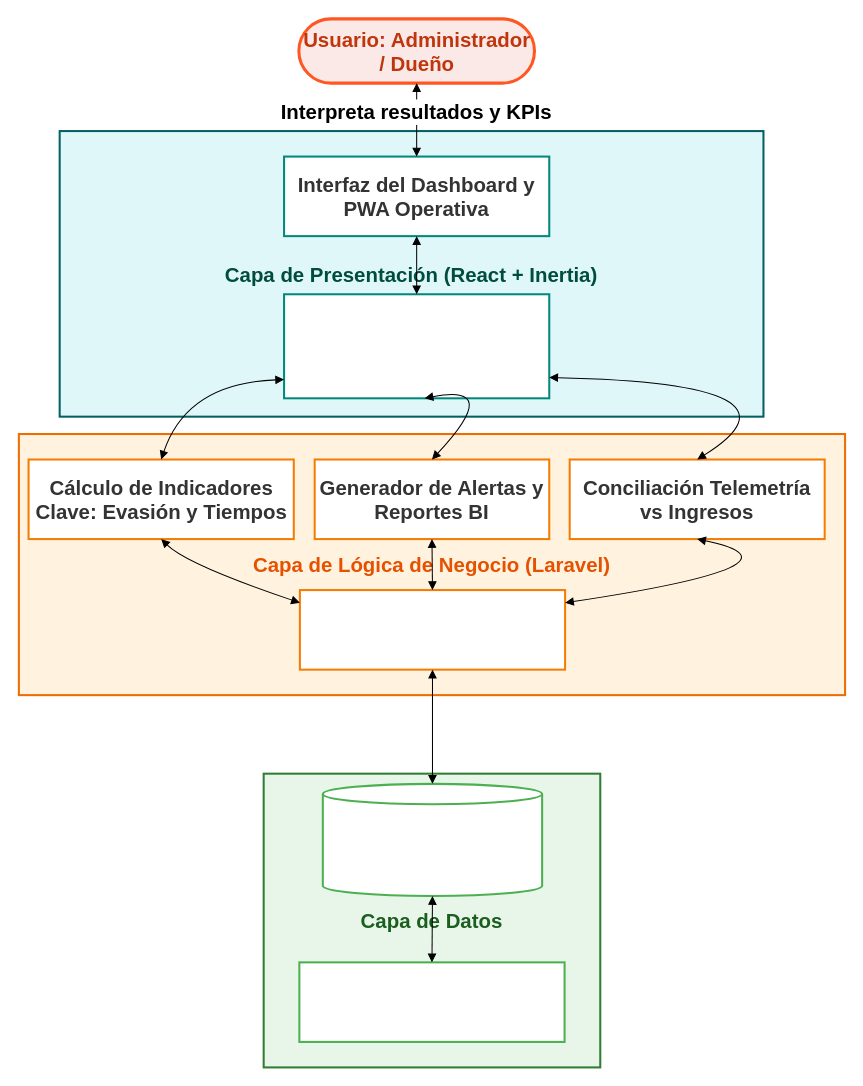
Image size: 863x1086. Some labels were removed from this diagram. Each missing label, with the centre of its shape:
API RESTful Sanctum - Sincronización Edge: (x=431, y=1001)
Base de Datos Unificada MySQL: (x=432, y=839)
Componentes de Visualización Gráfica y Mapas: (x=416, y=346)
Preprocesamiento de Eventos e Ingresos: (x=432, y=629)
